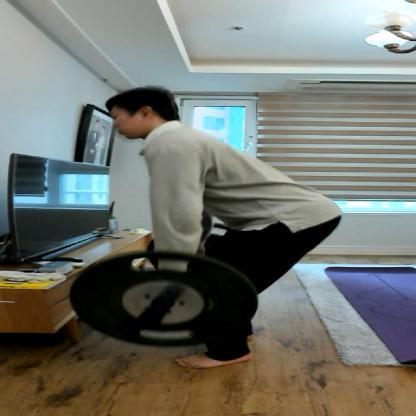barbell: (67, 247, 260, 351)
